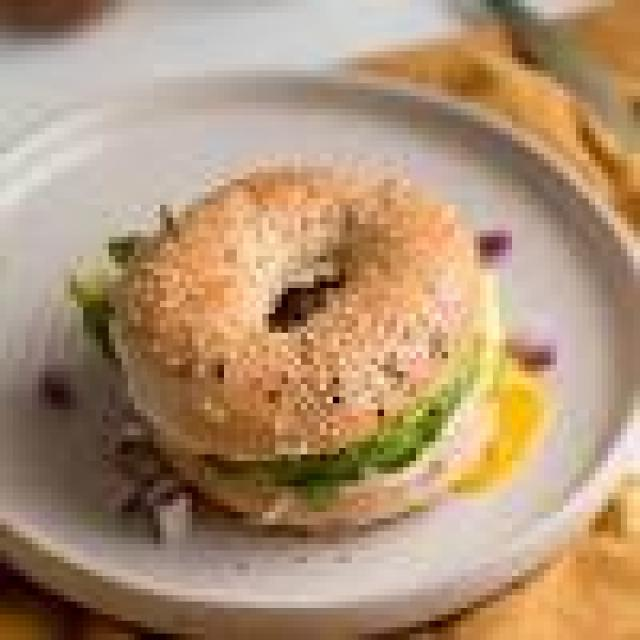Bagel: (112, 165, 494, 487)
